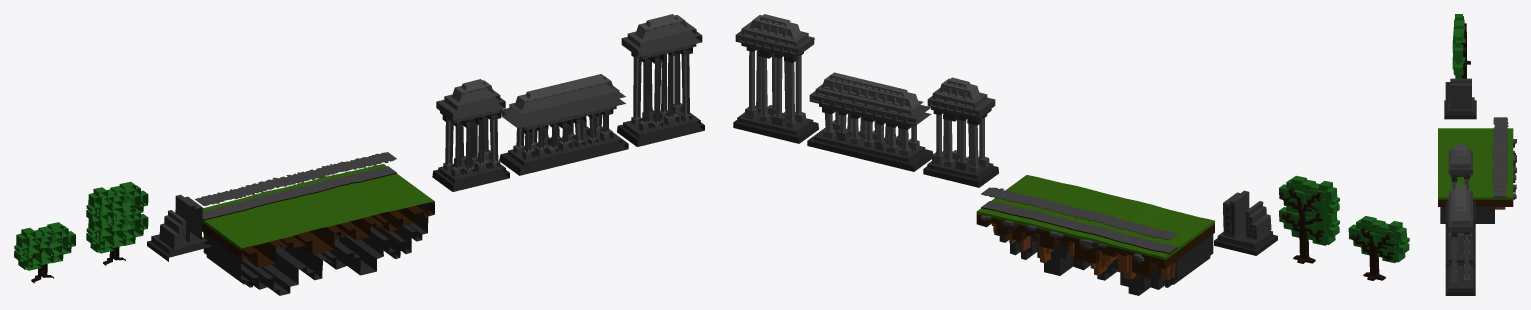
The model's file is Floating_City_AD.FBX.
The picture shows the model from 3 angles, left to right: view 1: azimuth 30°, elevation 25°; view 2: azimuth 150°, elevation 25°; view 3: azimuth 270°, elevation 25°; orthographic projection. The views are drawn at different scales.
Parts seen in each view (by area): view 1: Platform_Walkway_Grass, Building002, Building003, Rocks_Bottom, Building001, Tree002, Background_Building001, Tree001, Road002, Road001; view 2: Platform_Walkway_Grass, Building002, Building003, Building001, Tree002, Rocks_Bottom, Background_Building001, Tree001, Road002, Road001; view 3: Platform_Walkway_Grass, Building003, Background_Building001, Building002, Road002, Building001, Tree002, Rocks_Bottom, Road001, Tree001.
Boxes of the visible parts, x1,y1,x2,y2 form: Platform_Walkway_Grass: (202,164,434,267); Building002: (499,74,628,175); Building003: (617,14,704,146); Rocks_Bottom: (203,202,428,295); Building001: (432,79,509,191); Tree002: (86,181,148,265); Background_Building001: (147,194,212,261); Tree001: (14,222,75,283); Road002: (195,152,396,205); Road001: (202,166,396,220); Platform_Walkway_Grass: (976,175,1214,276); Building002: (807,72,933,171); Building003: (733,14,818,143); Building001: (923,77,998,187); Tree002: (1279,175,1339,263); Rocks_Bottom: (994,233,1213,295); Background_Building001: (1214,190,1277,255); Tree001: (1348,216,1409,280); Road002: (981,187,1177,240); Road001: (981,201,1177,253); Platform_Walkway_Grass: (1438,128,1513,206); Building003: (1445,197,1475,295); Background_Building001: (1444,78,1476,119); Building002: (1445,185,1475,267); Road002: (1491,117,1508,186); Building001: (1445,144,1475,225); Tree002: (1452,22,1466,78); Rocks_Bottom: (1440,207,1494,223); Road001: (1493,128,1507,197); Tree001: (1453,14,1470,64).
Bounding box in the file's own units: 8012 × 1923 × 1096.
